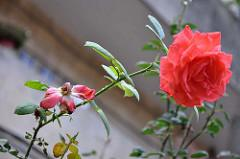Rose: (159, 26, 235, 114)
